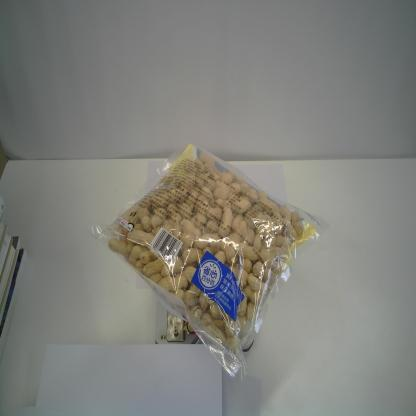Dried Food: (79, 139, 330, 385)
